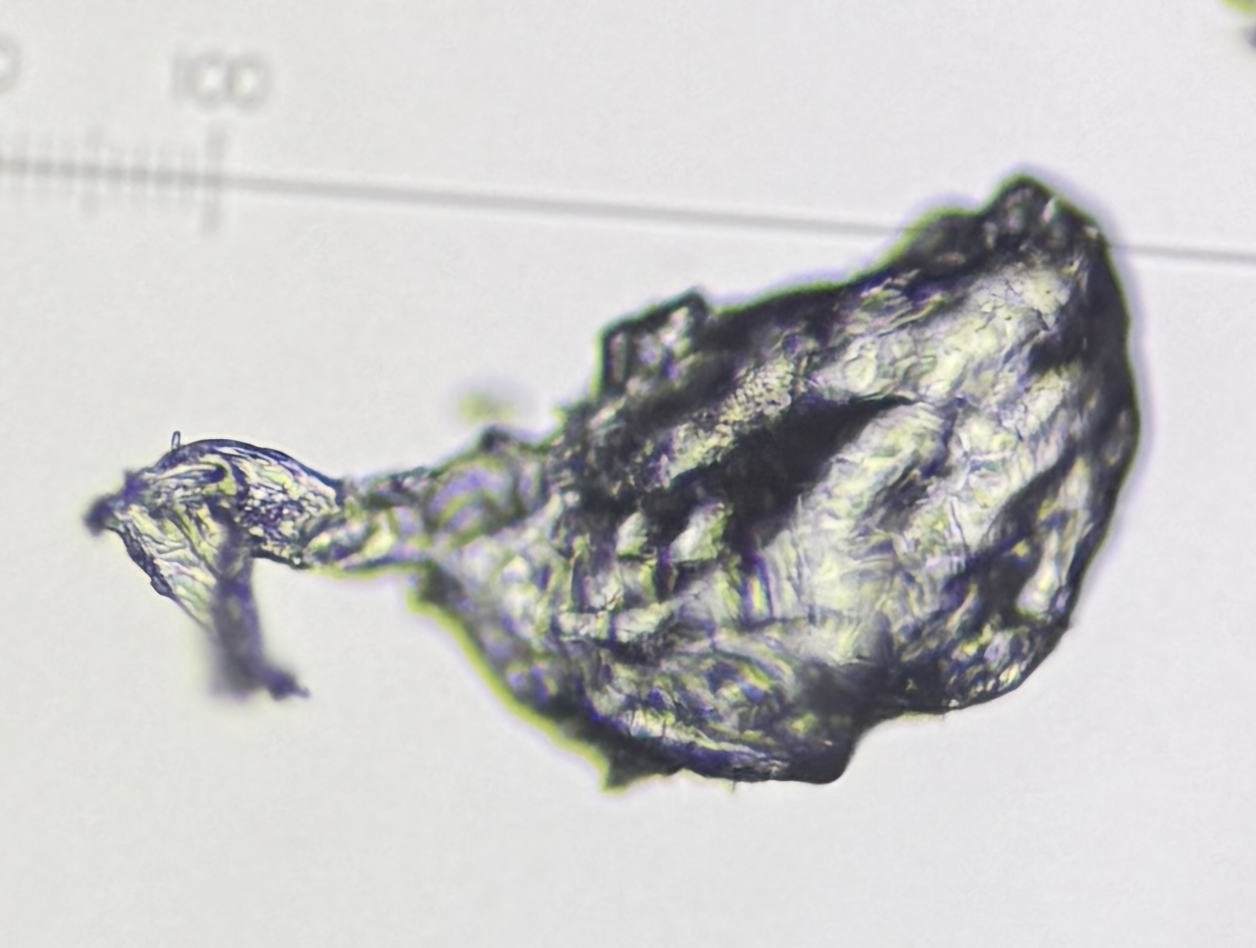microplastic: (82, 176, 1142, 794)
